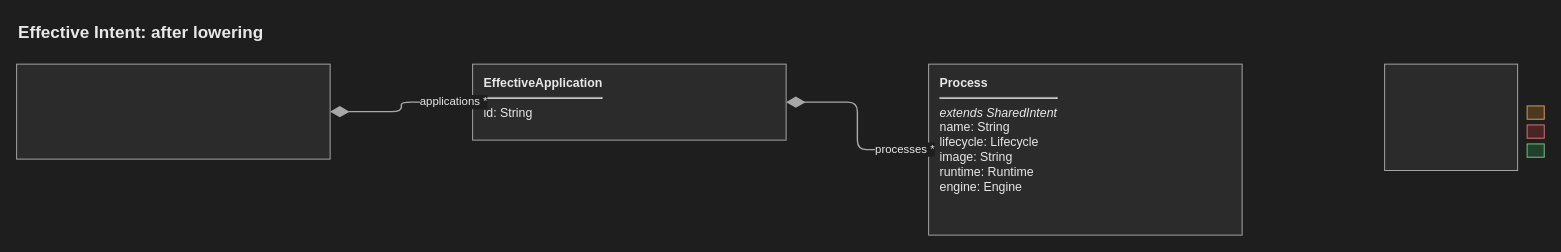
Image size: 1561x252. Some labels were removed from this diagram. Here are the shapes that lost their labels. From the top down, the box of each, then its label:
(16, 63, 330, 159): EffectiveProject project: String owner: String
(1384, 63, 1518, 171): Legend carried over changed removed new
